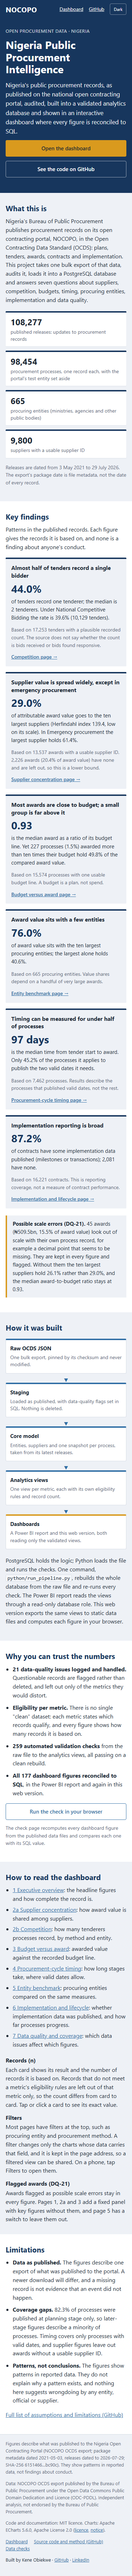

This screenshot's page, from the dashboard's own definition file:
{"tool":"powerbi","page":{"name":"7 Data quality and coverage","canvas":[1920,1080],"ordinal":7},"visuals":[{"type":"textbox","box":[0,0,280,190],"z":0},{"type":"textbox","box":[0,190,280,890],"z":1},{"type":"textbox","box":[20,18,250,150],"z":2},{"type":"pageNavigator","box":[12,205,256,480],"z":3},{"type":"textbox","box":[12,700,256,360],"z":4},{"type":"textbox","box":[310,15,1580,80],"z":5},{"type":"textbox","box":[310,995,1580,70],"z":6},{"type":"slicer","title":"Metric","fields":{"Values":["DQImpact.metric_id"]},"box":[310,105,500,80],"z":7},{"type":"slicer","title":"Impact type","fields":{"Values":["DQImpact.impact_type"]},"box":[830,105,1060,80],"z":8},{"type":"tableEx","title":"Population register: candidate and eligible records per metric","fields":{"Values":["MetricPopulation.metric_name","_Measures.Candidate Records","_Measures.Eligible Records","_Measures.Eligible Share"]},"box":[310,200,640,470],"z":9},{"type":"tableEx","title":"Data-quality issues by metric (counts overlap; they are not additive)","fields":{"Values":["DQImpact.metric_id","DQImpact.dq_ref","DQImpact.dq_issue","DQImpact.impact_type","_Measures.Issue Records","_Measures.Issue % of Candidates","_Measures.Lost To This Issue Only","_Measures.Issue Value (NGN)"]},"box":[970,200,920,780],"z":10},{"type":"textbox","box":[310,682,310,6],"z":11},{"type":"cardVisual","title":"Supplier-ID gap: awards left out (current figures)","fields":{"Data":["_Measures.M-S01 Excluded Awards","_Measures.M-S01 Excluded Awards (DQ view)"]},"box":[310,688,310,129],"z":12},{"type":"textbox","box":[640,682,310,6],"z":13},{"type":"cardVisual","title":"Supplier-ID gap: value left out, NGN (current figures)","fields":{"Data":["_Measures.M-S01 Excluded Value (NGN)","_Measures.M-S01 Excluded Value (DQ view)"]},"box":[640,688,310,129],"z":14},{"type":"textbox","box":[310,827,640,153],"z":15}]}

Visuals, with their boxes on the page's 1920x1080 design canvas (x1, y1, x2, y2). These are canvas units, not pixel positions in the 132x2576 screenshot, which may show the page scaled, cropped or inside an application window:
textbox: box=[0, 0, 280, 190]
textbox: box=[0, 190, 280, 1080]
textbox: box=[20, 18, 270, 168]
pageNavigator: box=[12, 205, 268, 685]
textbox: box=[12, 700, 268, 1060]
textbox: box=[310, 15, 1890, 95]
textbox: box=[310, 995, 1890, 1065]
"Metric" slicer: box=[310, 105, 810, 185]
"Impact type" slicer: box=[830, 105, 1890, 185]
"Population register: candidate and eligible records per metric" tableEx: box=[310, 200, 950, 670]
"Data-quality issues by metric (counts overlap; they are not additive)" tableEx: box=[970, 200, 1890, 980]
textbox: box=[310, 682, 620, 688]
"Supplier-ID gap: awards left out (current figures)" cardVisual: box=[310, 688, 620, 817]
textbox: box=[640, 682, 950, 688]
"Supplier-ID gap: value left out, NGN (current figures)" cardVisual: box=[640, 688, 950, 817]
textbox: box=[310, 827, 950, 980]
